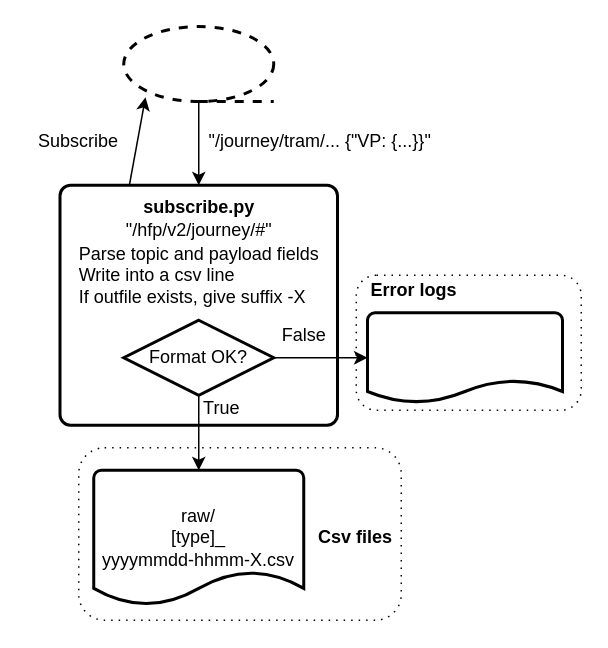
This 608x648 diagram has some shape labels left out. Each missing label, with the box of its shape:
logs/ errors_[yyyymmdd].log: (365, 310, 563, 404)
mqtt.hsl.fi: (122, 24, 274, 102)
